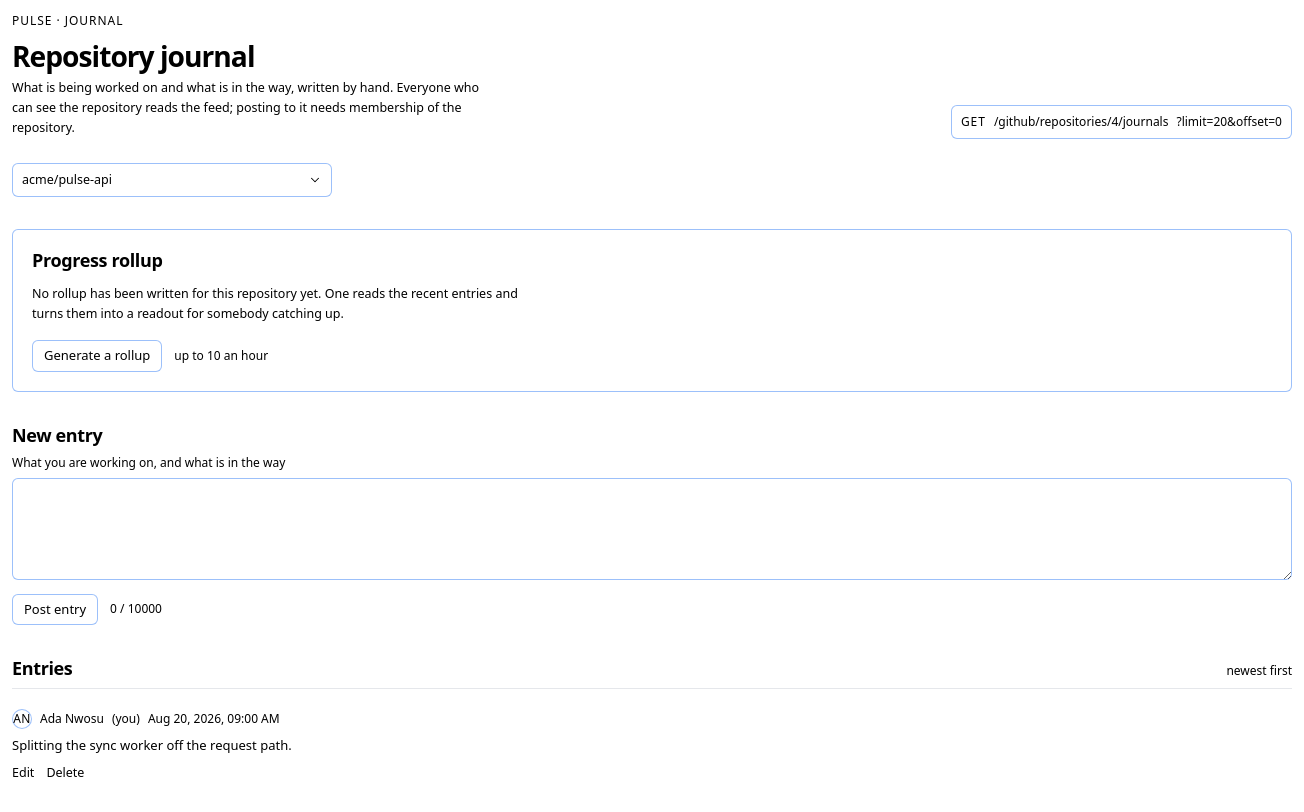
Test: /journal · the composer › puts a posted entry on the feed without anybody reloading the page
Type "Waiting on review for #212." into the text box with test id "composer" at (652,529), box [12, 478, 1292, 580]
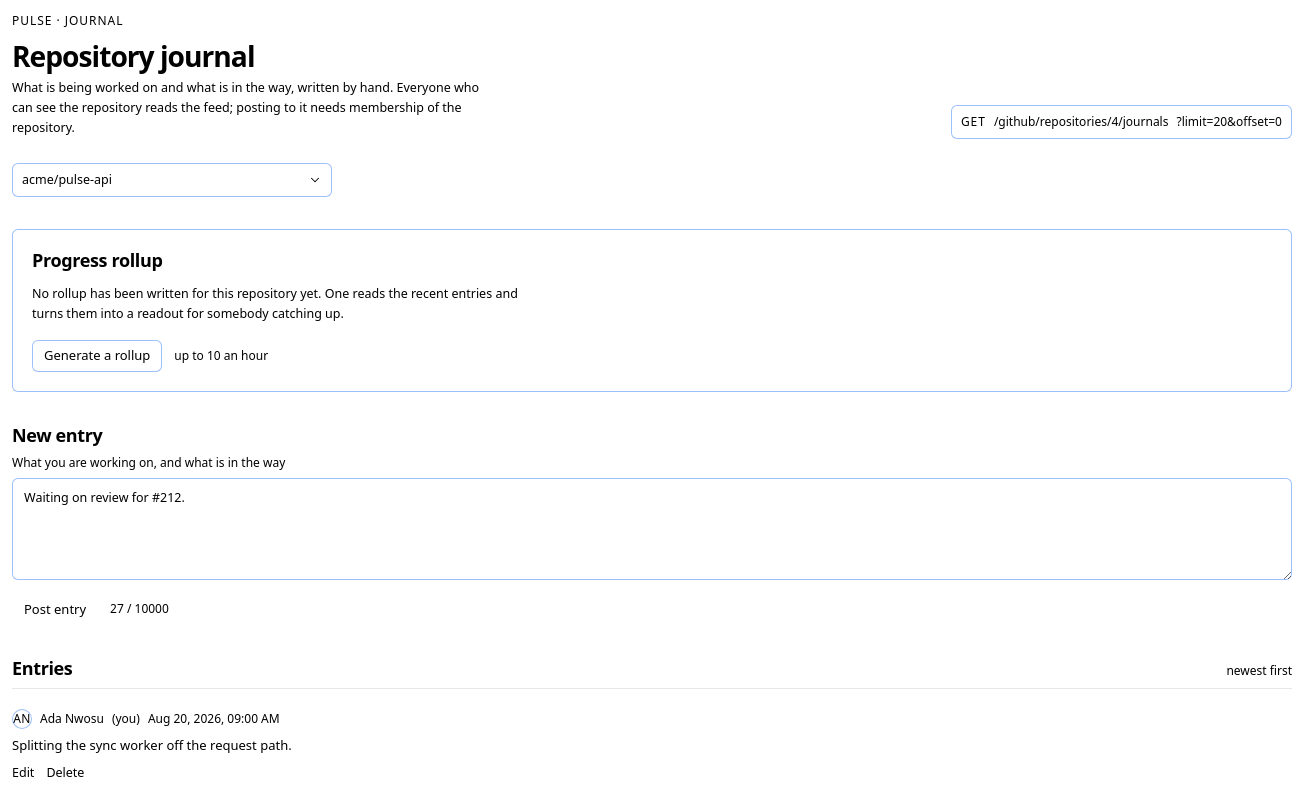
Click the button with test id "composer-post" at (55,609), box [12, 594, 98, 625]
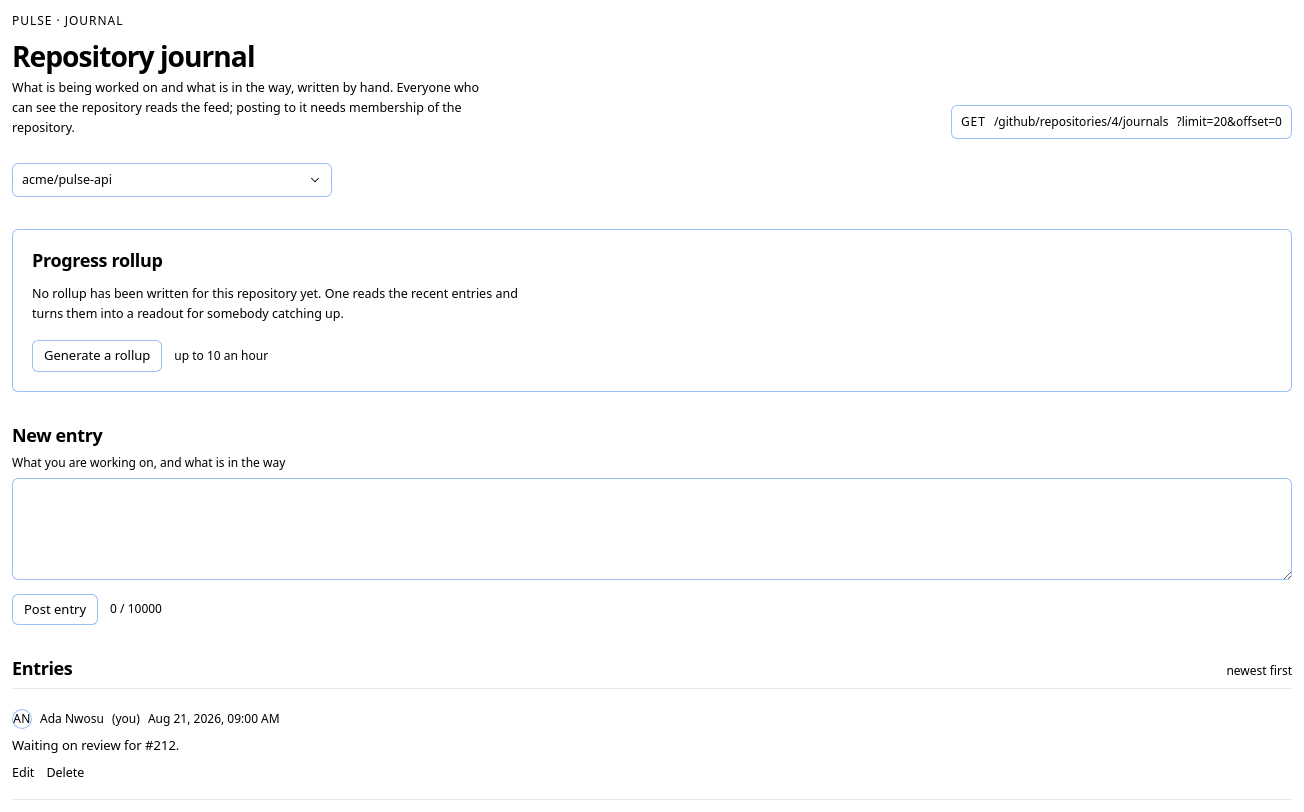
Now the text with class "whitespace-pre-wrap" reads "Waiting on review for #212.", box [12, 736, 179, 754]
Now the text box with test id "composer" is empty, box [12, 478, 1292, 580]
